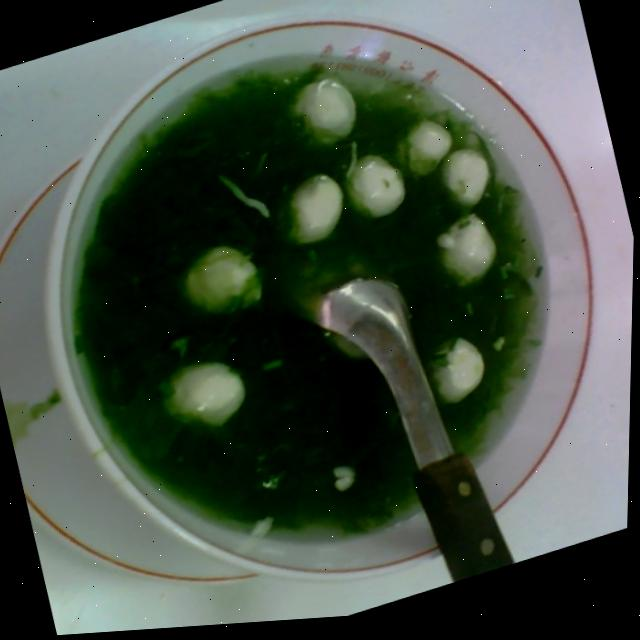熟制海鲜: (116, 33, 567, 520)
